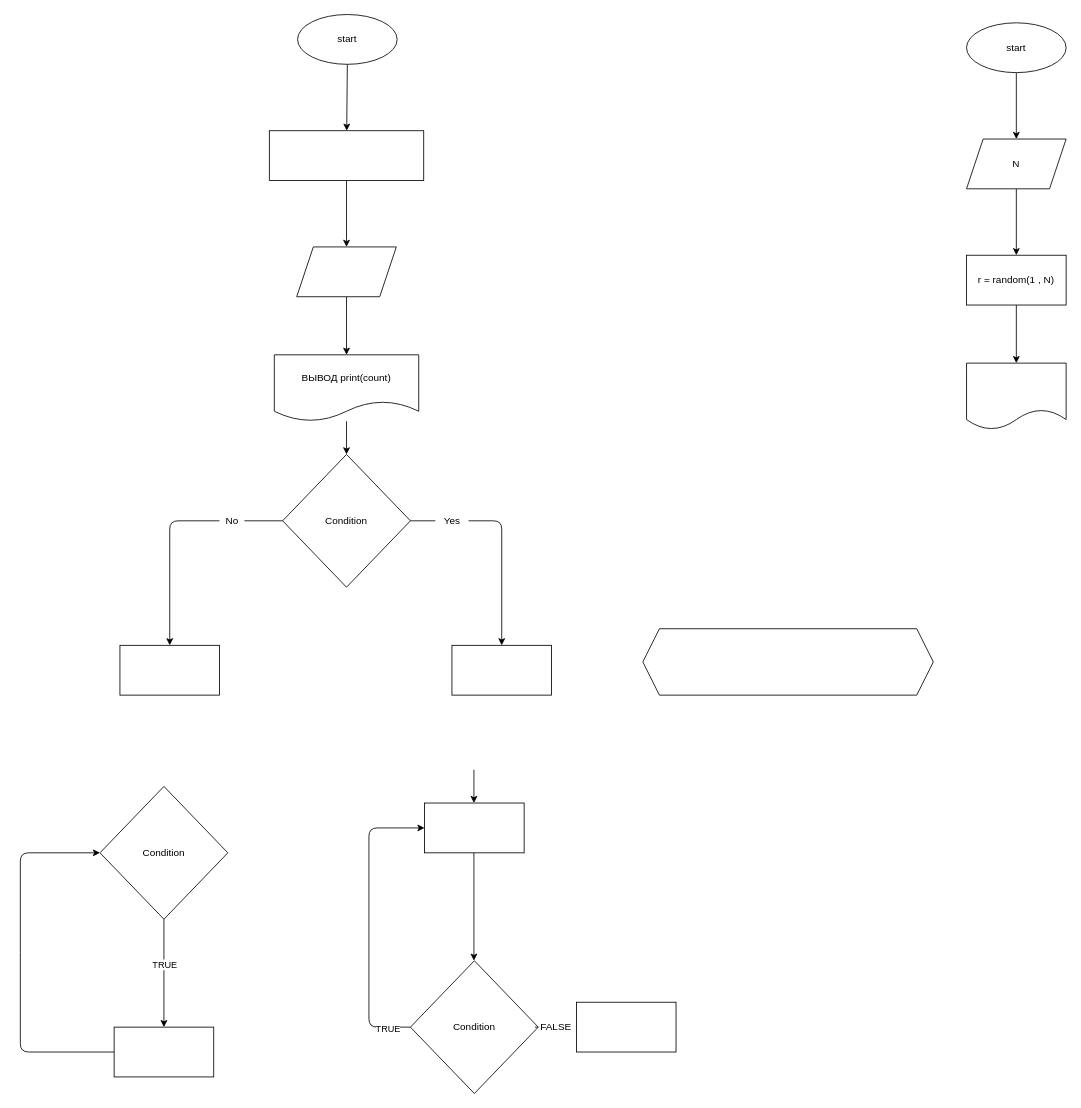
Some shapes in this 1081 by 1108 pixel diagram are drawn without their labels. Here are the shapes that lost their labels. From the top down, the centre of each, then its label:
the point at 346,155: count = 0 res = 1 * sqrt (2)
the point at 346,271: ВВОД (count)
the point at 1016,396: end
the point at 787,661: count = 1, 10, 5 Count = 10, 0, -2
